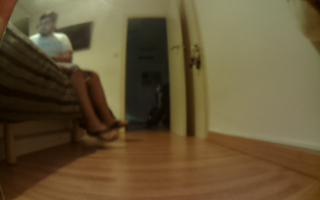person: (31, 8, 129, 156)
